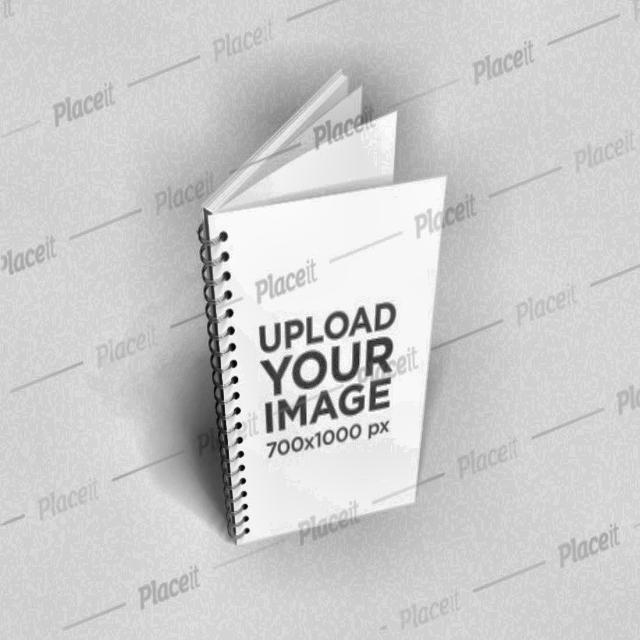Notebook: (178, 45, 465, 565)
